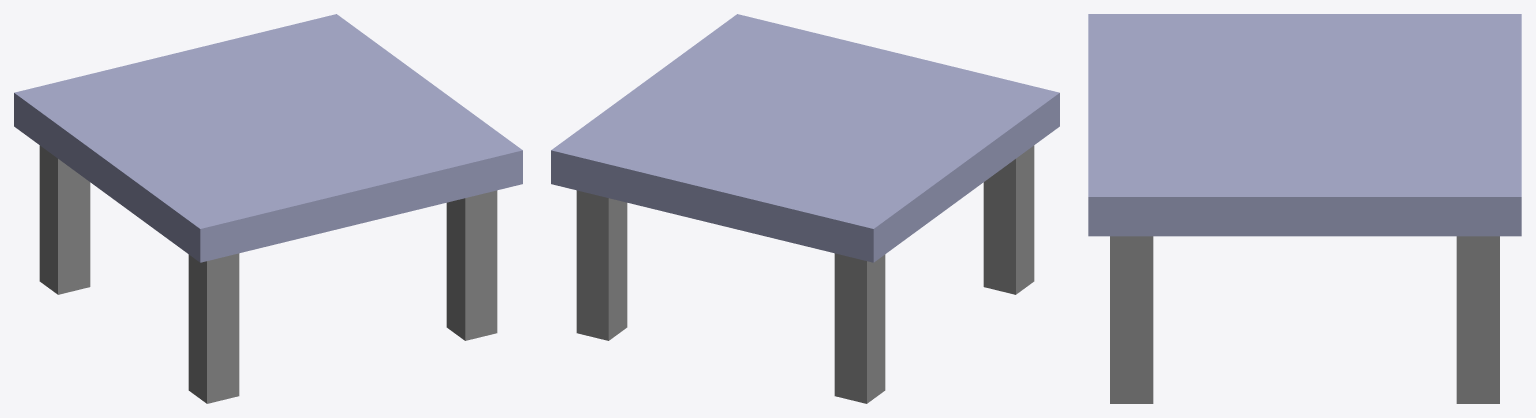
File: Table6.fbx
3 views of the same model, side by side, from view 1: azimuth 30°, elevation 25°; view 2: azimuth 150°, elevation 25°; view 3: azimuth 270°, elevation 25° (orthographic). The views are drawn at different scales.
Visible parts, largest first — view 1: Cube; view 2: Cube; view 3: Cube.
Boxes of the visible parts, x1,y1,x2,y2 form: Cube: (14, 14, 522, 403); Cube: (551, 14, 1059, 403); Cube: (1088, 14, 1521, 403).
Bounding box in the file's own units: 1.8 × 0.99 × 1.8.
